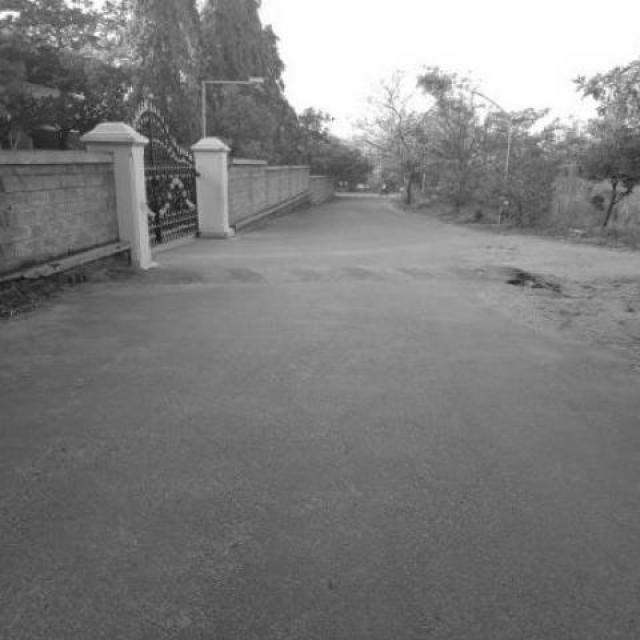Pothole: (101, 267, 142, 282), (503, 270, 535, 284), (626, 306, 636, 315)
Speed Bump: (80, 262, 550, 286)
